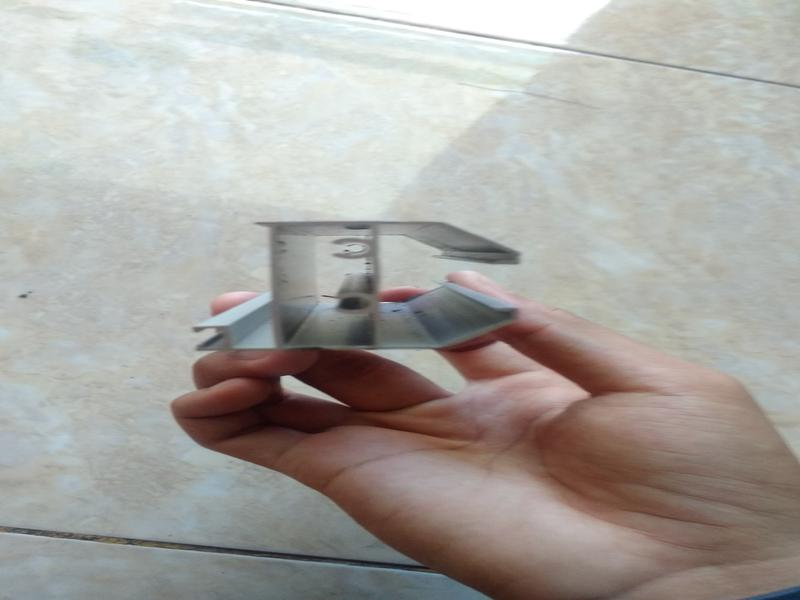Aluminium_3: (173, 202, 540, 378)
